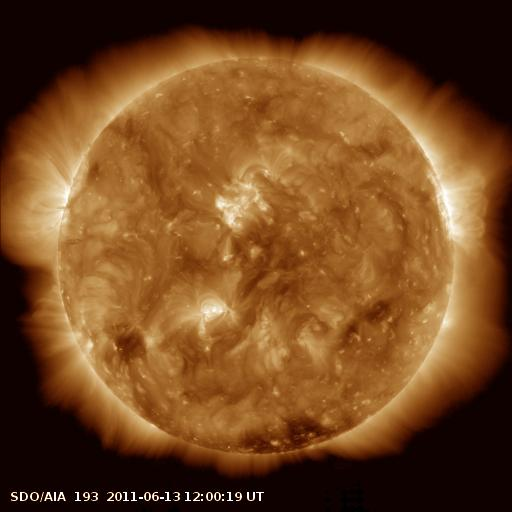coronal_hole: (225, 416, 356, 457)
